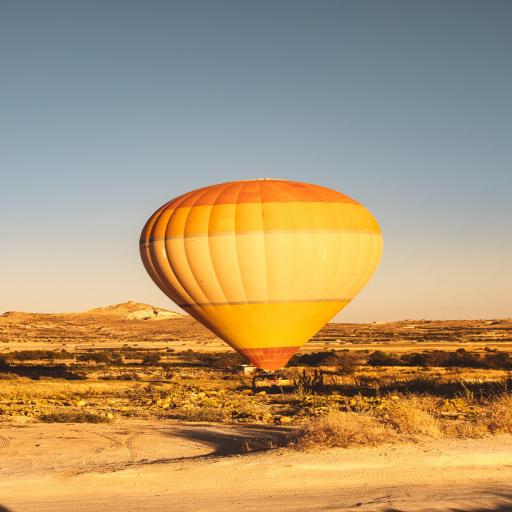hot air ballon: (138, 178, 382, 388)
